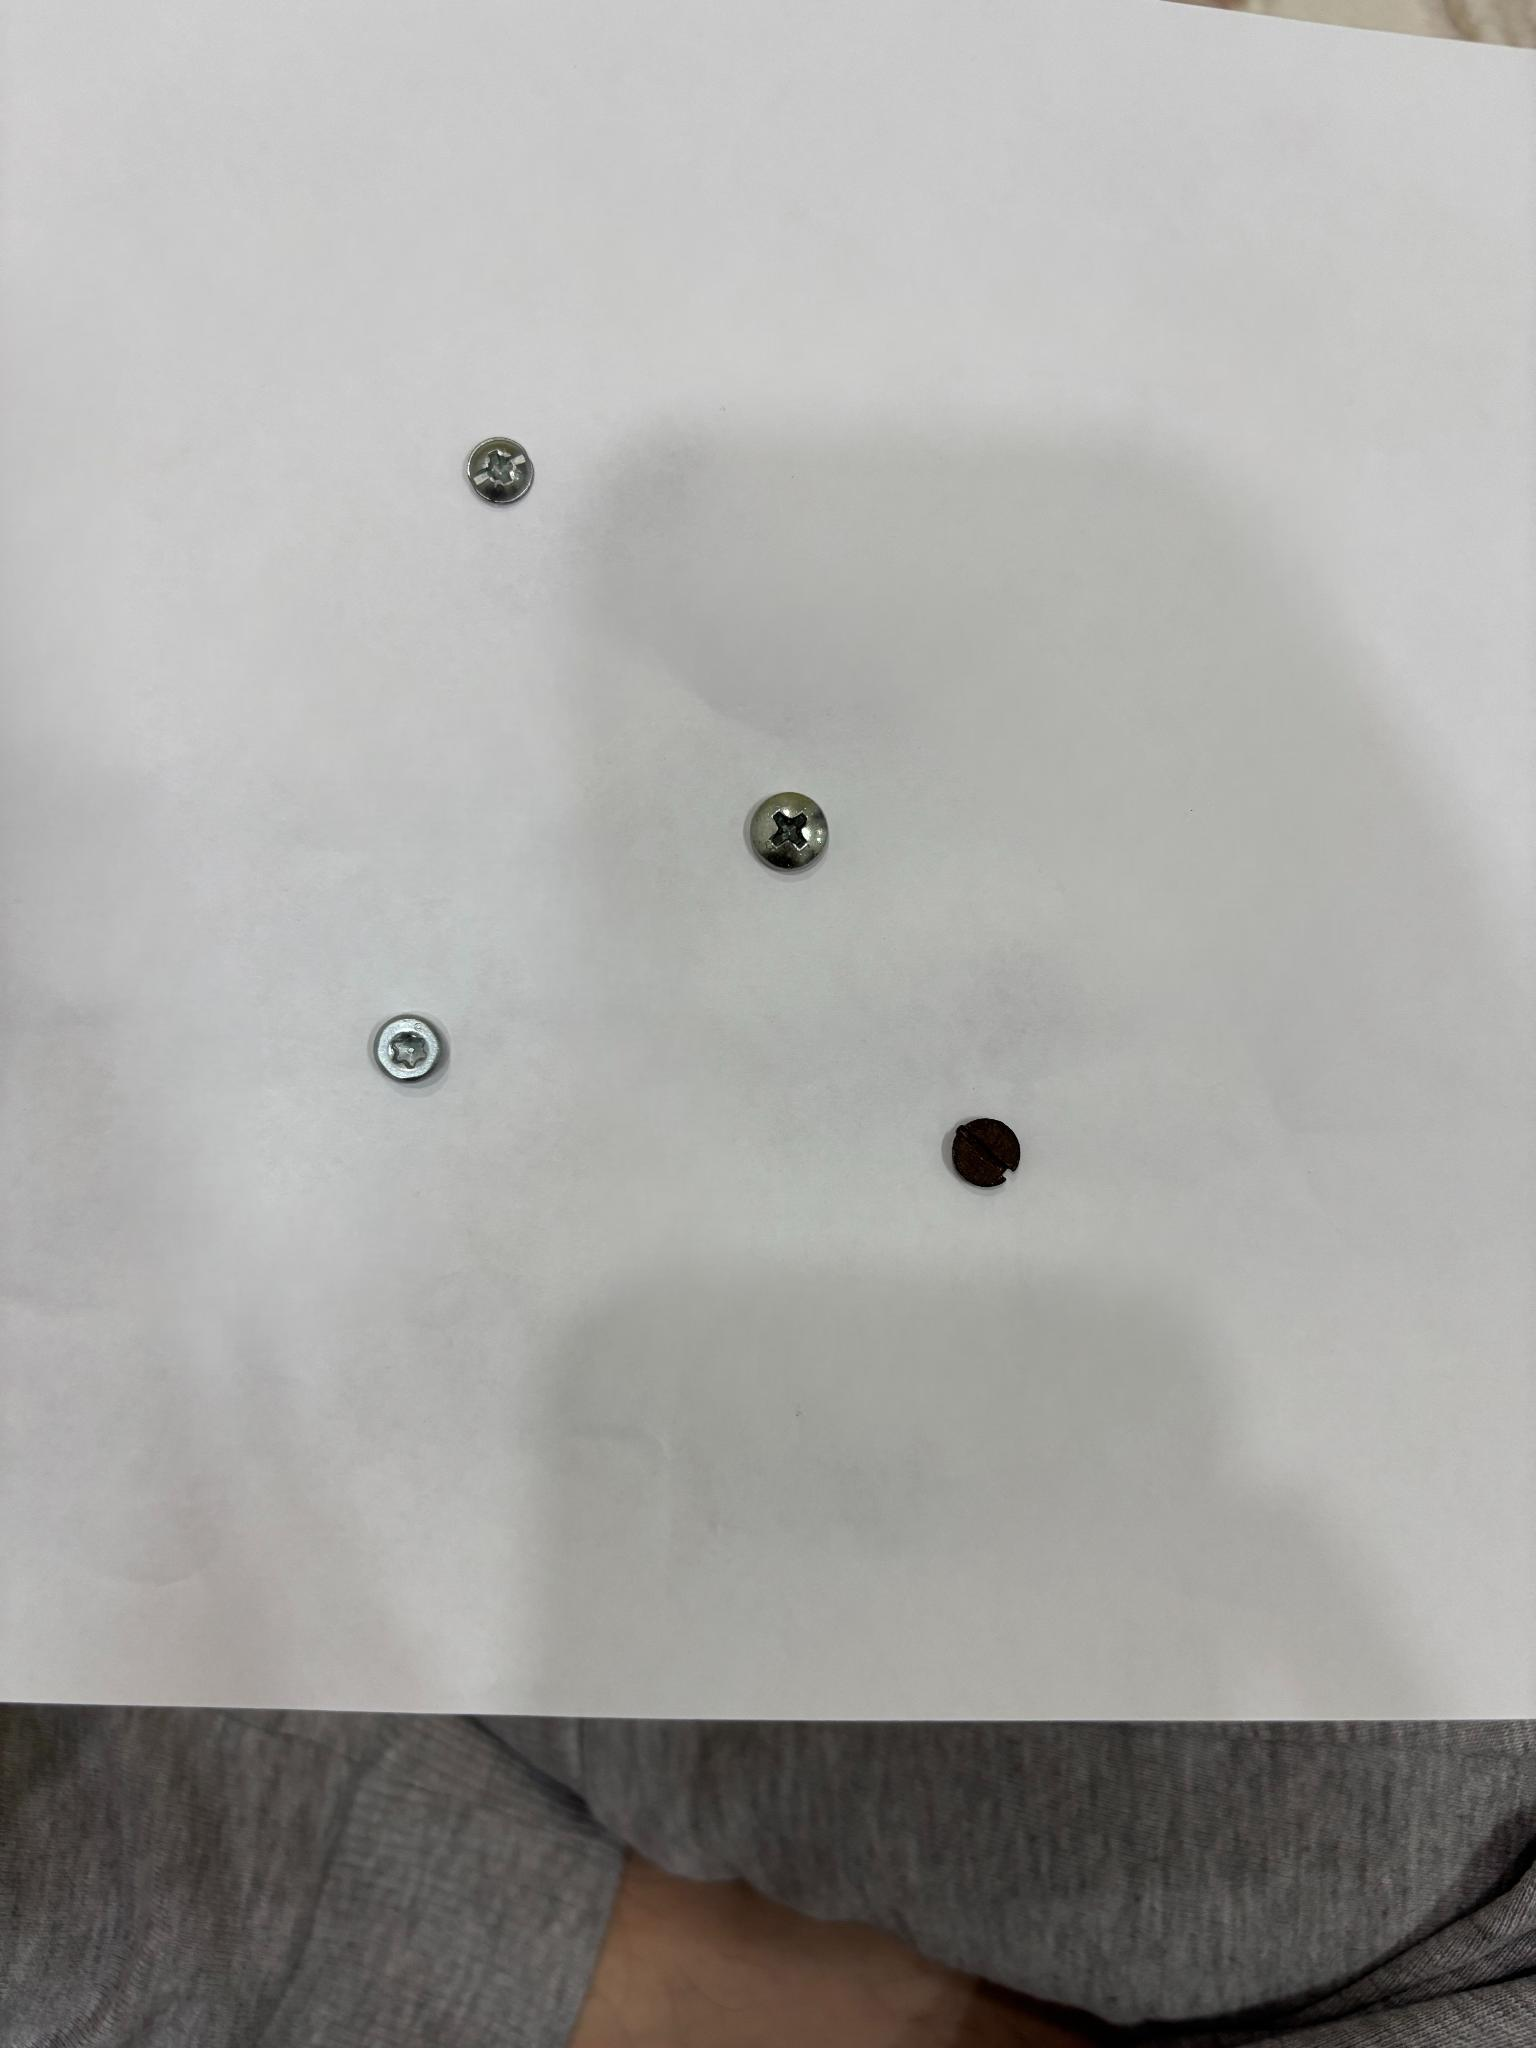PH: (750, 793, 828, 869)
PZ: (466, 437, 534, 503)
SL: (952, 1118, 1021, 1187)
T: (374, 1016, 442, 1082)
